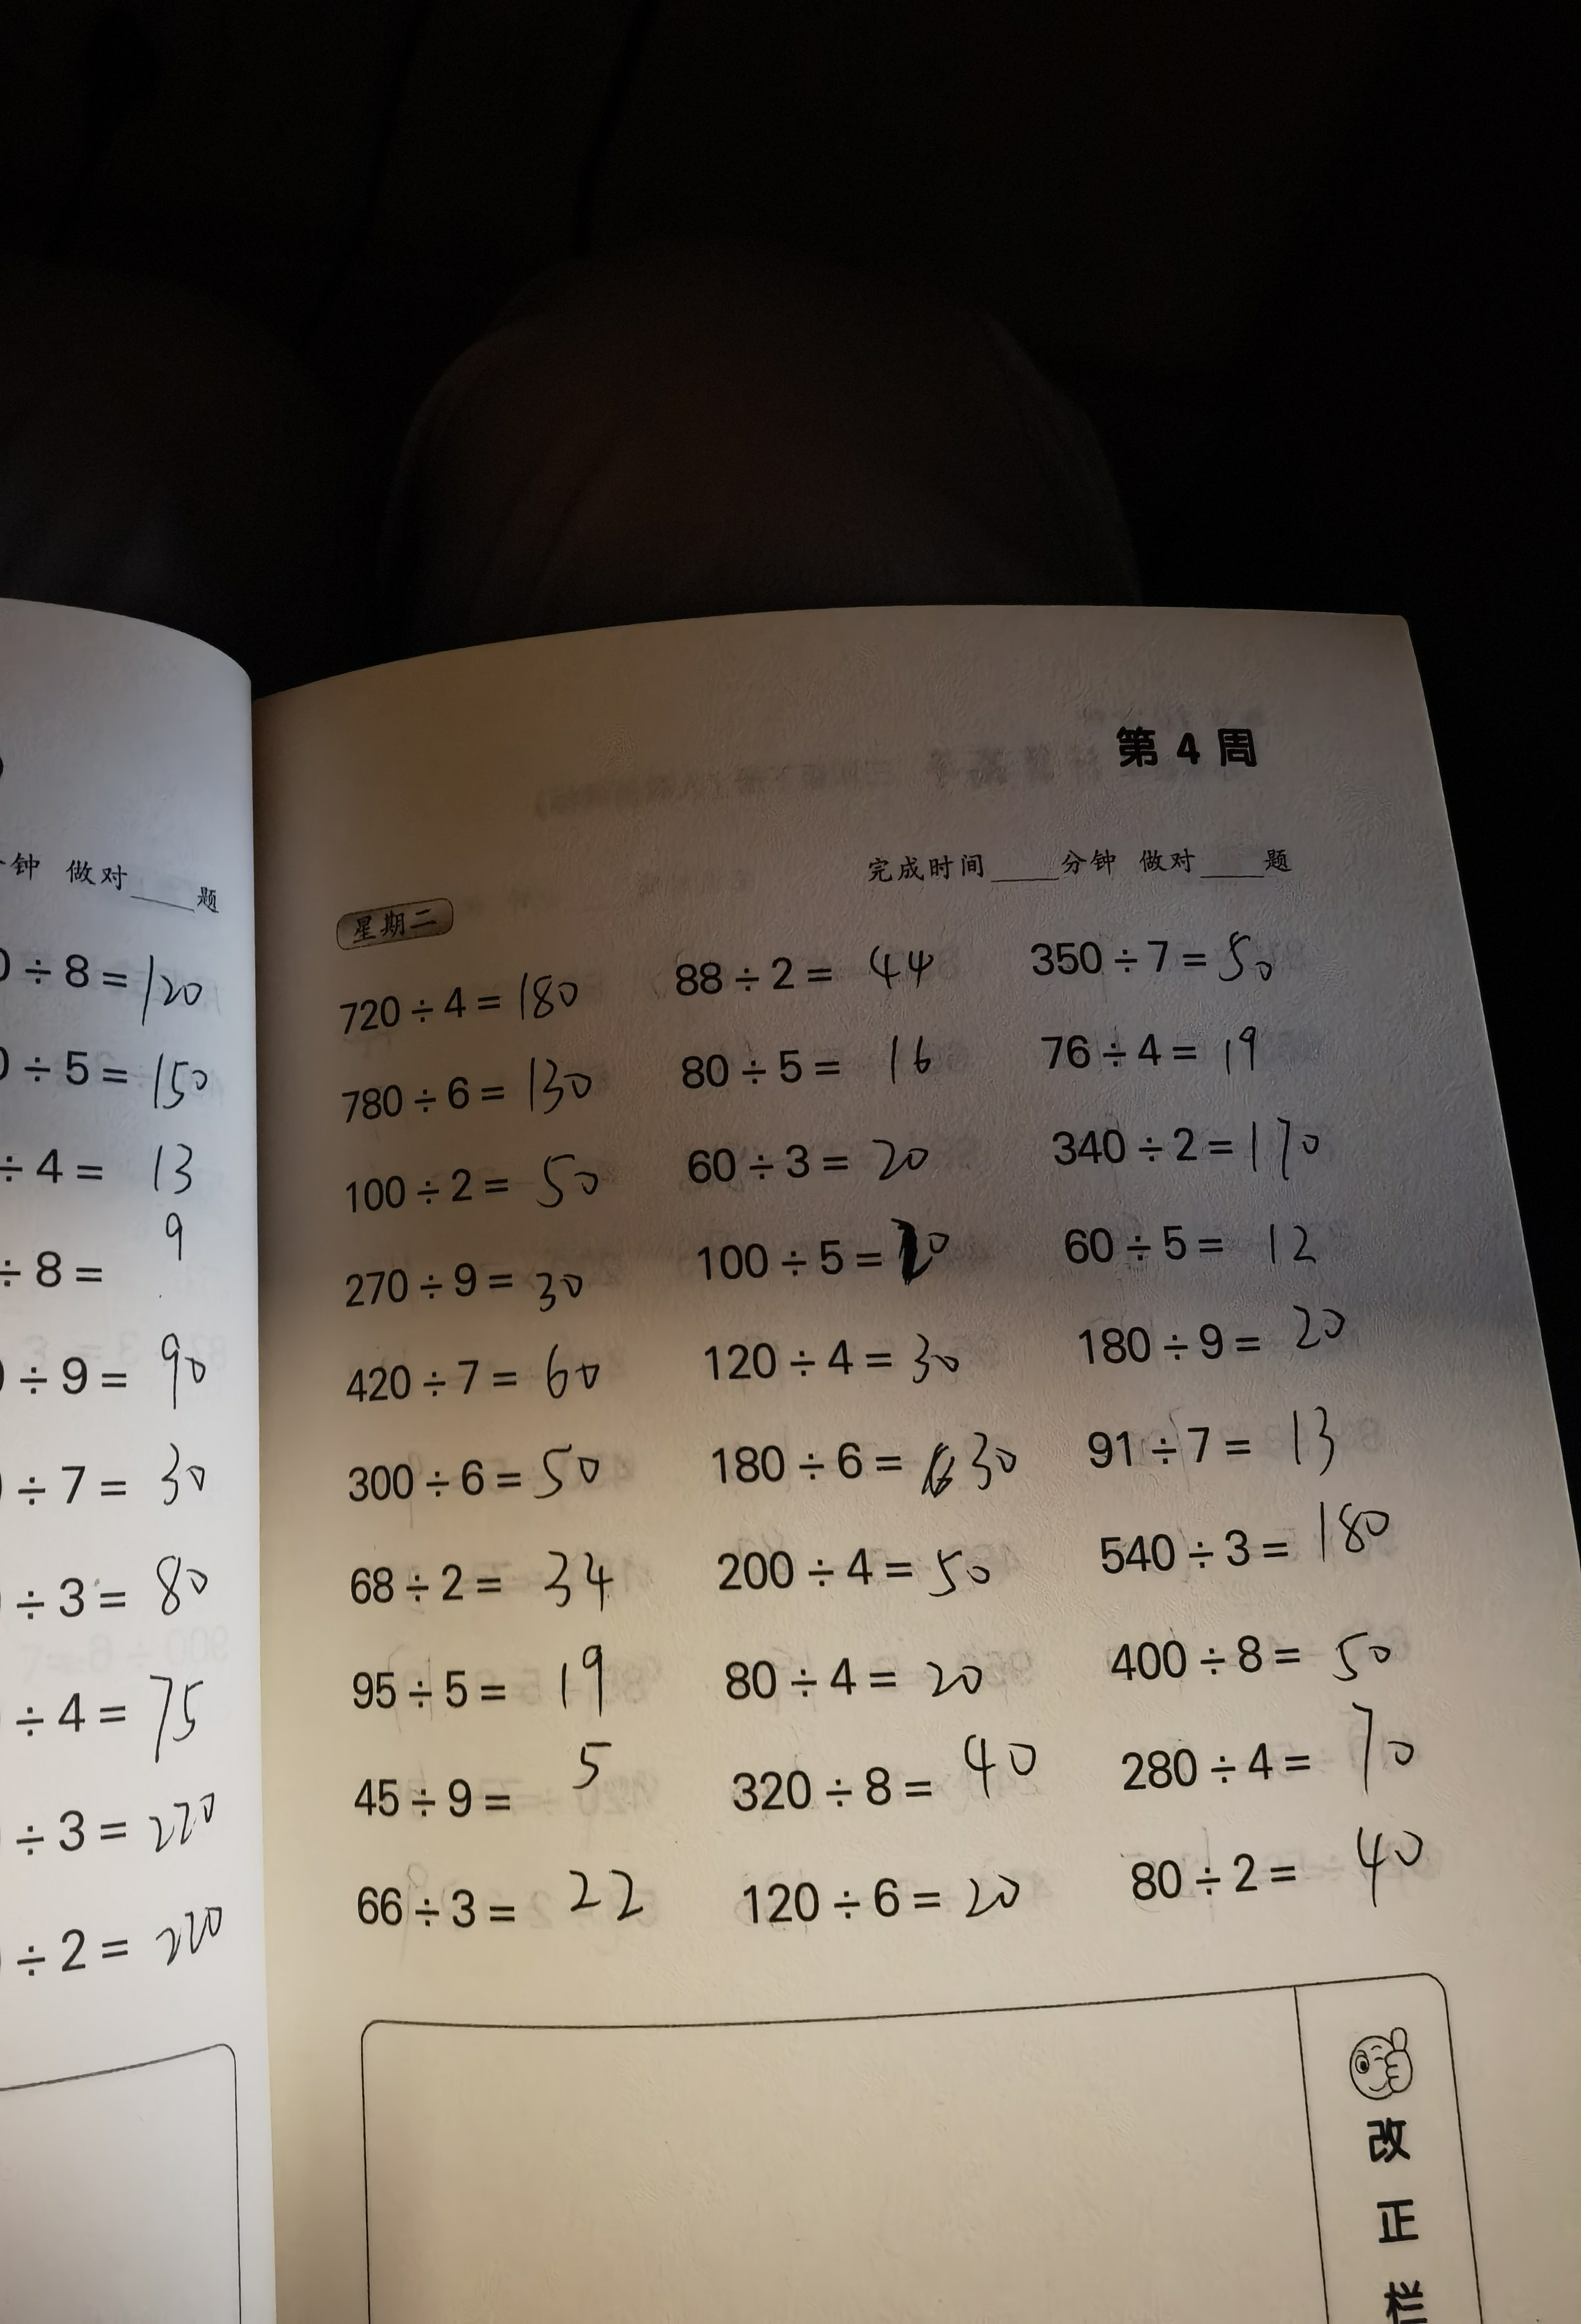equation: (736, 1724, 1062, 1830), (1076, 1708, 1417, 1809), (326, 1742, 633, 1849), (1071, 1498, 1417, 1585), (658, 1424, 1029, 1503), (727, 1848, 1036, 1939), (1098, 1602, 1408, 1692), (318, 1639, 628, 1728), (683, 1528, 1002, 1611), (328, 1869, 660, 1948), (672, 1334, 1016, 1410), (1101, 1835, 1442, 1911), (328, 1431, 621, 1518), (323, 1230, 581, 1327), (713, 1632, 990, 1719), (1083, 1408, 1367, 1486), (685, 1232, 992, 1302), (335, 1057, 625, 1131), (1060, 1306, 1369, 1373), (1036, 1117, 1325, 1186), (1025, 923, 1293, 997), (325, 962, 612, 1031), (344, 1548, 626, 1615), (328, 1348, 623, 1412), (326, 1159, 628, 1219), (665, 1133, 940, 1191), (674, 941, 937, 1001), (1025, 1023, 1276, 1085), (1053, 1216, 1334, 1267), (676, 1039, 946, 1087)
